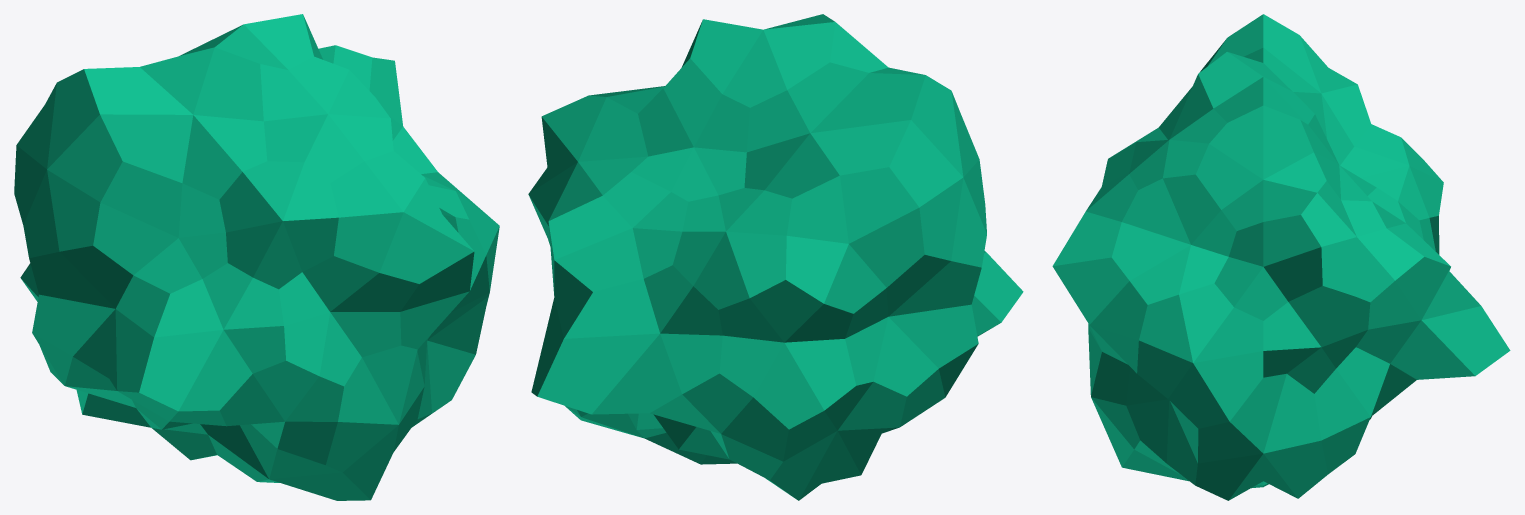
The model's file is Buildings_TreeBunch.fbx.
3 renders of one model, left to right at view 1: azimuth 30°, elevation 25°; view 2: azimuth 150°, elevation 25°; view 3: azimuth 270°, elevation 25°, orthographic. The views are drawn at different scales.
Parts seen in each view (by area): view 1: TreeBunch; view 2: TreeBunch; view 3: TreeBunch.
Part boxes in pixels (box(x1,y1,x2,y2)): TreeBunch: box(14, 14, 499, 500); TreeBunch: box(528, 14, 1023, 500); TreeBunch: box(1052, 14, 1510, 500).
Bounding box in the file's own units: 444 × 444 × 465.
